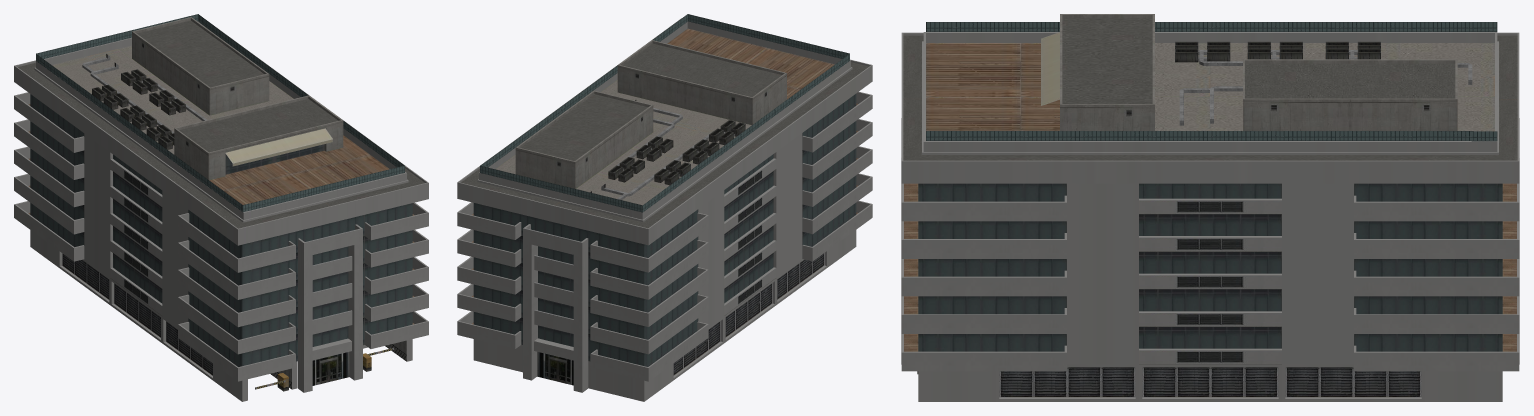
3 views of the same model, side by side, from view 1: azimuth 30°, elevation 25°; view 2: azimuth 150°, elevation 25°; view 3: azimuth 270°, elevation 25° (orthographic). The views are drawn at different scales.
Bounding box in the file's own units: 2206 × 2280 × 4480.
1 material, 1 textured.
